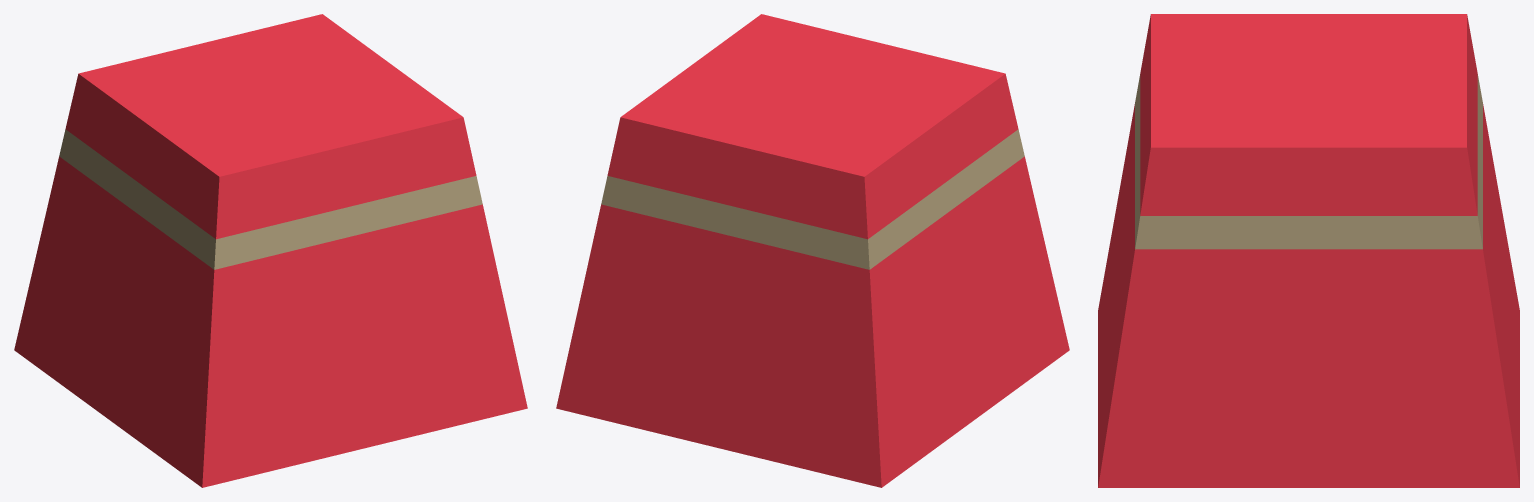
File: House_22.fbx
3 views of the same model, side by side, from view 1: azimuth 30°, elevation 25°; view 2: azimuth 150°, elevation 25°; view 3: azimuth 270°, elevation 25° (orthographic). The views are drawn at different scales.
Parts seen in each view (by area): view 1: House_22; view 2: House_22; view 3: House_22.
Boxes of the visible parts, x1,y1,x2,y2 form: House_22: (14,14,527,487); House_22: (556,14,1069,487); House_22: (1098,14,1519,487).
Size of the model in its own units: 150 by 125 by 150.
